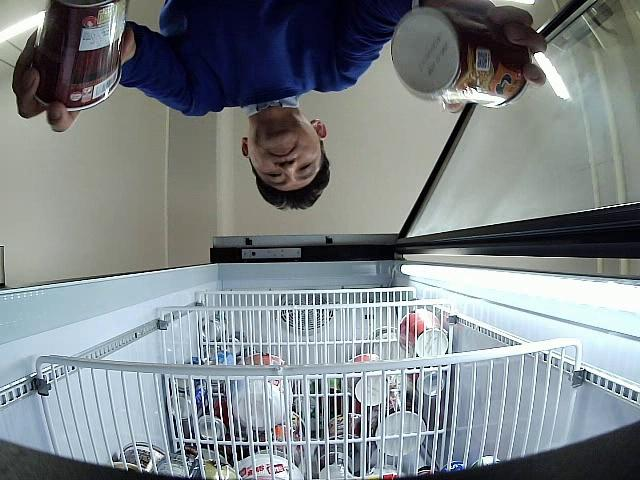00_hand: (19, 25, 138, 133), (443, 6, 546, 112)
06_nuguri_S: (392, 9, 531, 109), (31, 0, 128, 111)
